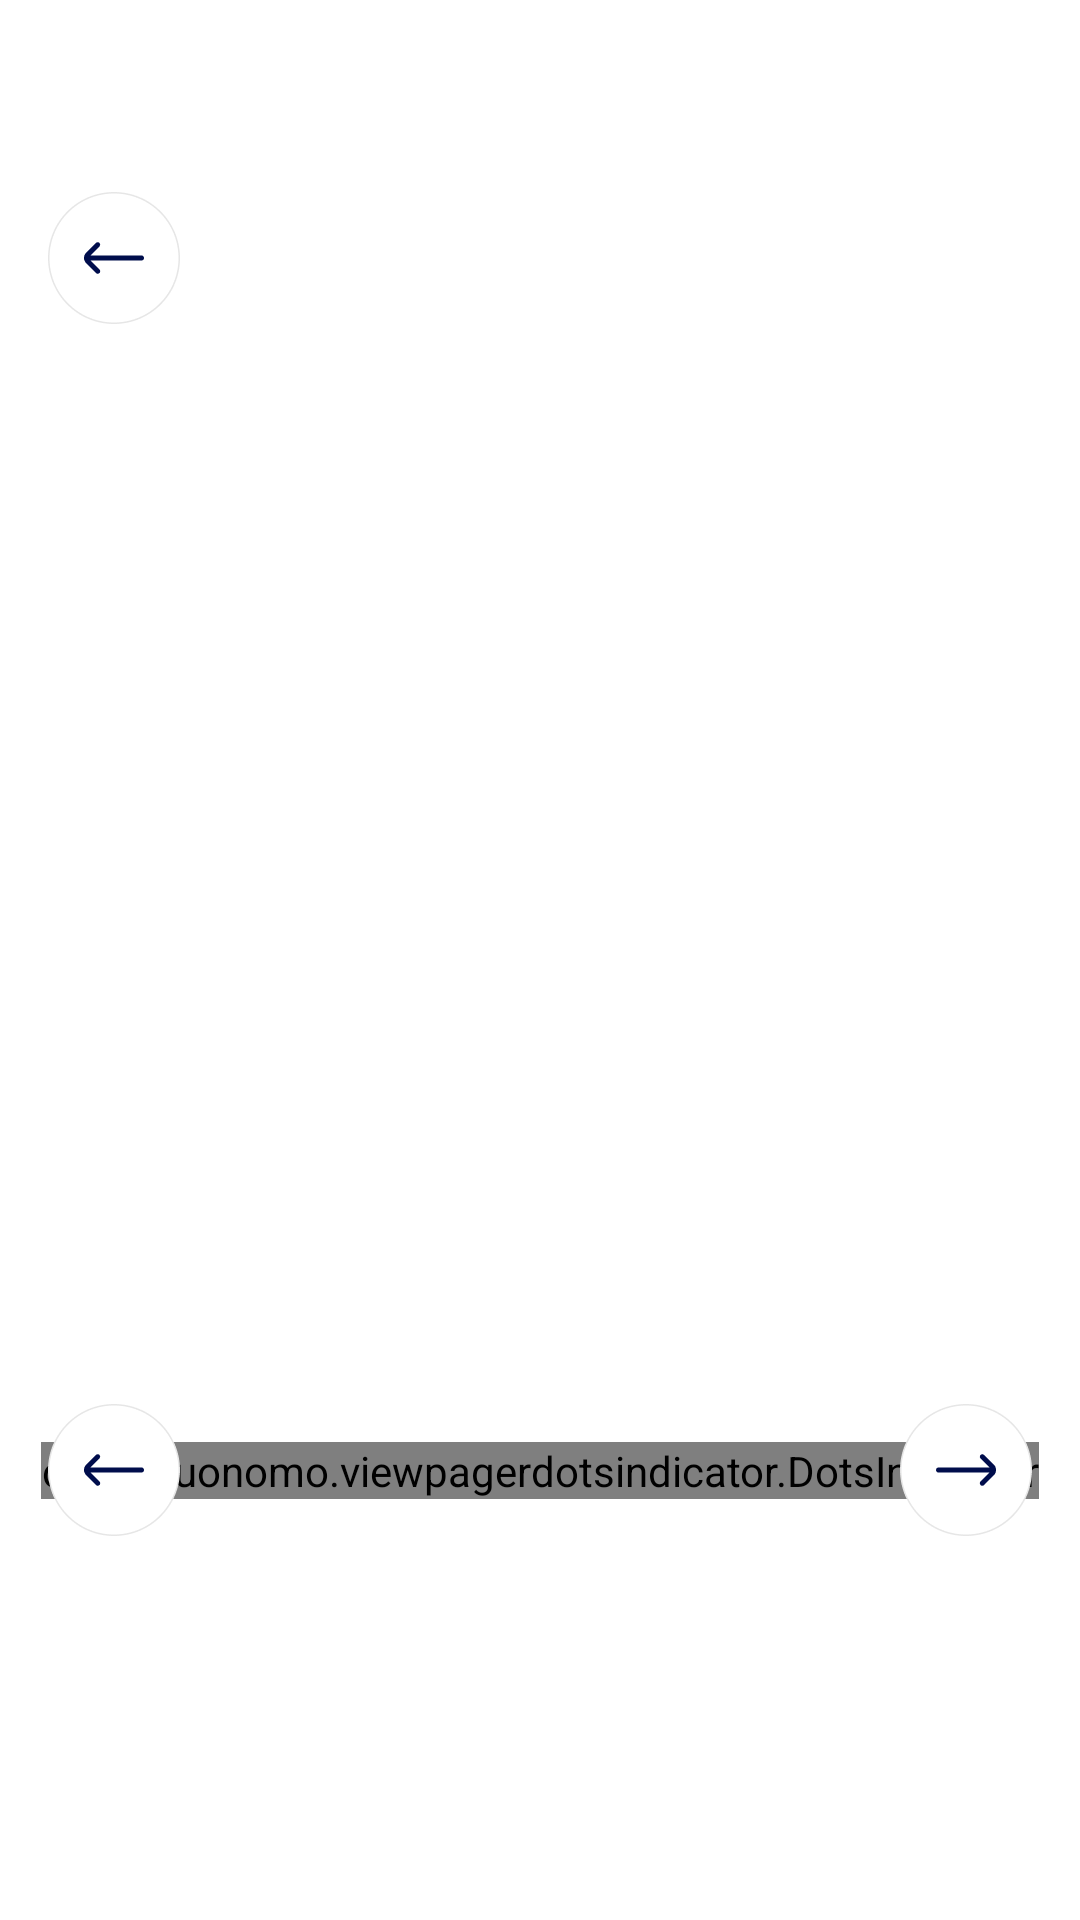

Screen size 1080*1920. Icon name, then its box in pixels as (x1, y1, x2, y2):
back: (48, 192, 180, 324)
next htu: (908, 1404, 1024, 1536)
pre htu: (56, 1404, 172, 1536)
